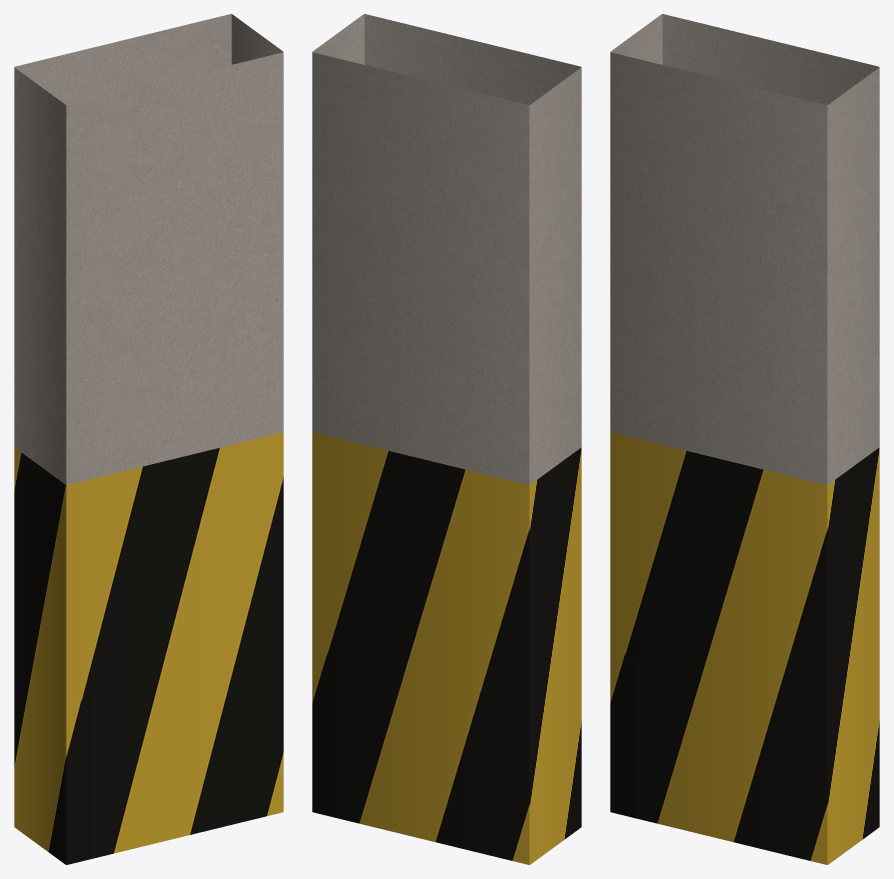
The model's file is Column1.FBX.
3 views of the same model, side by side, from view 1: azimuth 30°, elevation 25°; view 2: azimuth 150°, elevation 25°; view 3: azimuth 330°, elevation 25° (orthographic).
Parts seen in each view (by area): view 1: Column_Up, Column_Down; view 2: Column_Up, Column_Down; view 3: Column_Up, Column_Down.
Boxes of the visible parts, <box> form: Column_Up: <box>14,14,283,484</box>; Column_Down: <box>14,432,283,864</box>; Column_Up: <box>312,14,581,484</box>; Column_Down: <box>312,432,581,864</box>; Column_Up: <box>610,14,879,484</box>; Column_Down: <box>610,432,879,864</box>.
Bounding box in the file's own units: 600 × 2000 × 250.
